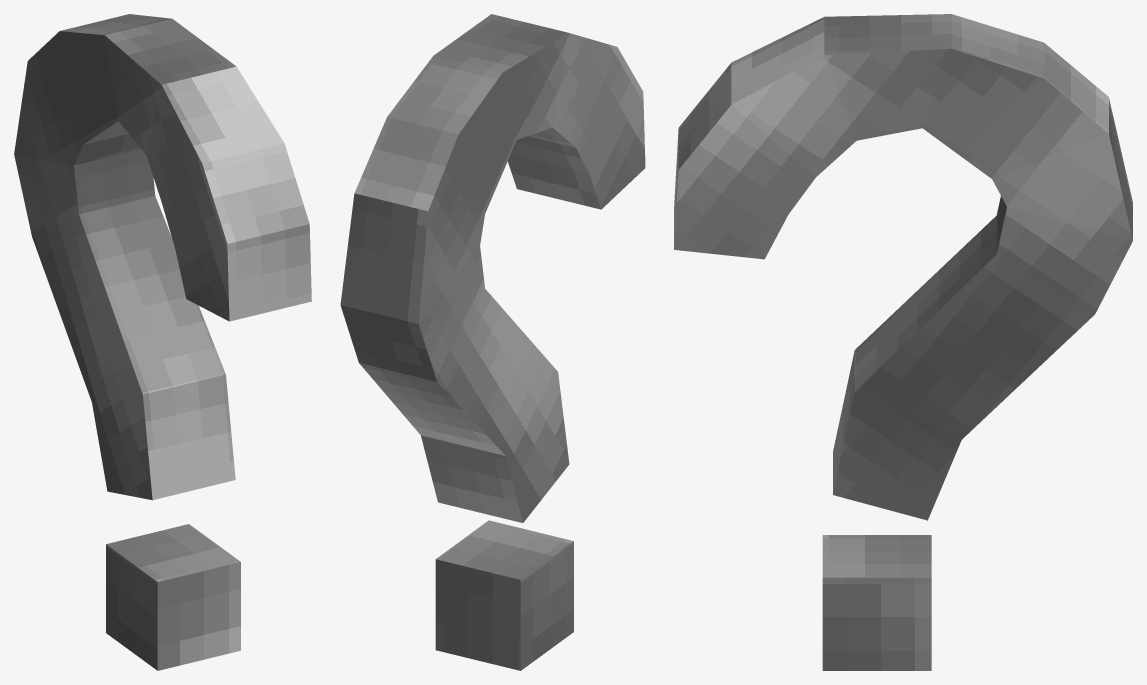
The model's file is question_mark.fbx.
3 renders of one model, left to right at view 1: azimuth 30°, elevation 25°; view 2: azimuth 150°, elevation 25°; view 3: azimuth 270°, elevation 25°, orthographic. The views are drawn at different scales.
Visible parts, largest first — view 1: Question Mark; view 2: Question Mark; view 3: Question Mark.
Boxes of the visible parts, x1,y1,x2,y2 form: Question Mark: (14,14,311,670); Question Mark: (340,14,645,670); Question Mark: (674,14,1132,670).
Bounding box in the file's own units: 0.0901 × 0.4067 × 0.605.
